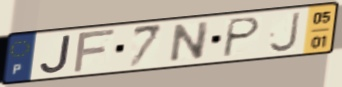7: (129, 22, 165, 70)
F: (70, 27, 118, 75)
J: (267, 10, 302, 54), (38, 33, 74, 75)
N: (167, 19, 213, 65)
P: (219, 15, 263, 59)
